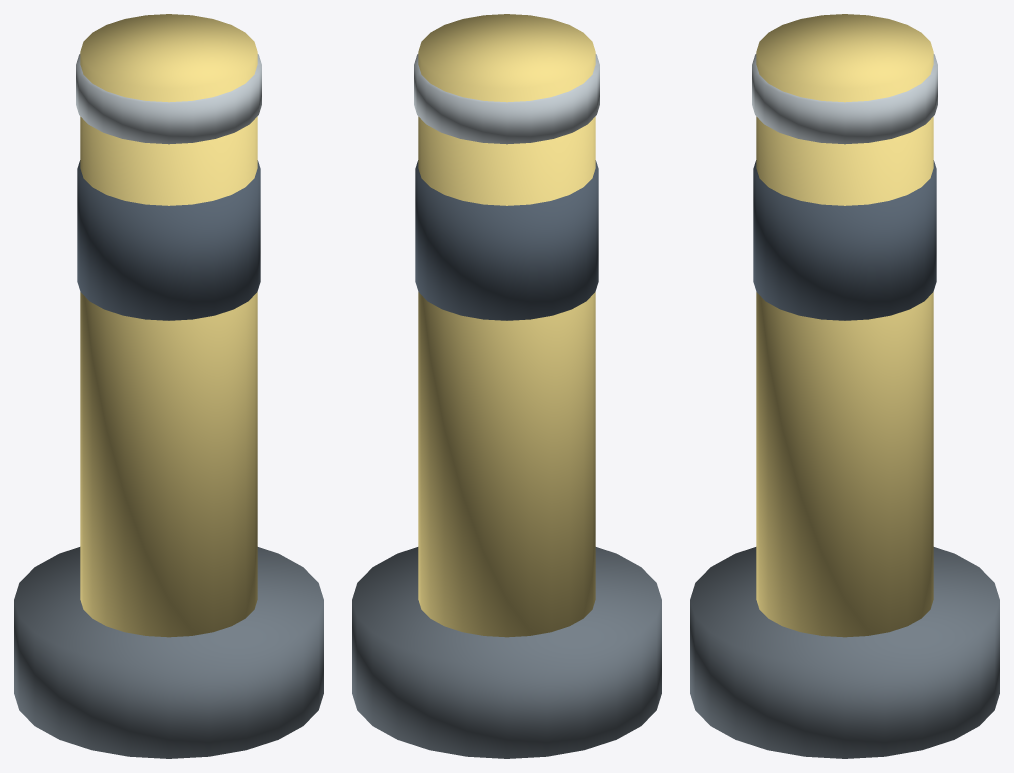
The model's file is bollard_enhanced.glb.
The picture shows the model from 3 angles, left to right: view 1: azimuth 30°, elevation 25°; view 2: azimuth 150°, elevation 25°; view 3: azimuth 270°, elevation 25°; orthographic projection.
Parts seen in each view (by area): view 1: Body_yellow, Base_dark, Stripe_black, Cap_steel; view 2: Body_yellow, Base_dark, Stripe_black, Cap_steel; view 3: Body_yellow, Base_dark, Stripe_black, Cap_steel.
Boxes of the visible parts, box(x1,y1,x2,y2) form: Body_yellow: box(80, 14, 257, 637); Base_dark: box(14, 547, 323, 758); Stripe_black: box(77, 160, 260, 320); Cap_steel: box(76, 54, 261, 144); Body_yellow: box(418, 14, 595, 637); Base_dark: box(352, 547, 661, 758); Stripe_black: box(415, 160, 598, 320); Cap_steel: box(414, 54, 599, 144); Body_yellow: box(756, 14, 933, 637); Base_dark: box(690, 547, 999, 758); Stripe_black: box(753, 160, 936, 320); Cap_steel: box(752, 54, 937, 144).
Size of the model in its own units: 0.42 by 0.96 by 0.42.
